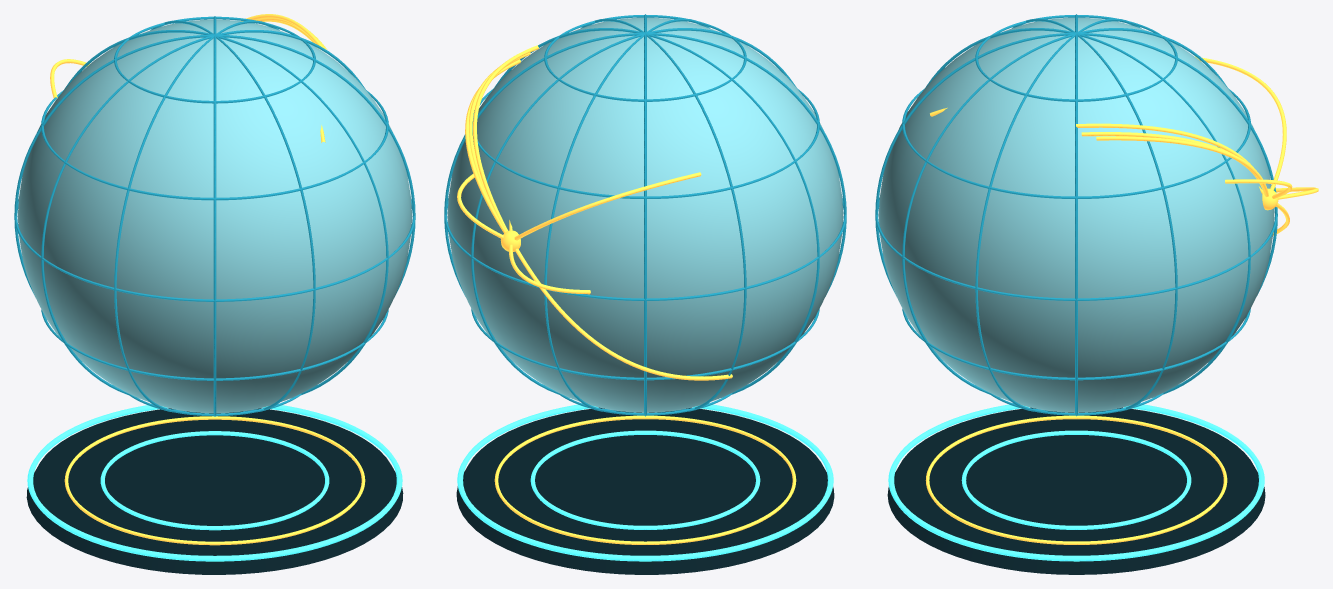
The model's file is alpenglow.glb.
3 renders of one model, left to right at view 1: azimuth 30°, elevation 25°; view 2: azimuth 150°, elevation 25°; view 3: azimuth 270°, elevation 25°, orthographic.
Visible parts, largest first — view 1: alpenglow, globe, base-rings, base-accent, leads; view 2: alpenglow, globe, base-rings, leads, base-accent; view 3: alpenglow, globe, base-rings, leads, base-accent.
Part boxes in pixels (bbox=[...]): alpenglow: bbox=[17, 19, 412, 574]; globe: bbox=[14, 16, 415, 416]; base-rings: bbox=[27, 405, 402, 561]; base-accent: bbox=[64, 416, 365, 545]; leads: bbox=[50, 14, 327, 142]; alpenglow: bbox=[447, 17, 843, 574]; globe: bbox=[444, 14, 846, 416]; base-rings: bbox=[457, 404, 833, 561]; leads: bbox=[457, 45, 732, 380]; base-accent: bbox=[494, 415, 796, 544]; alpenglow: bbox=[878, 17, 1278, 574]; globe: bbox=[875, 14, 1277, 416]; base-rings: bbox=[888, 404, 1264, 561]; leads: bbox=[930, 56, 1318, 235]; base-accent: bbox=[925, 415, 1227, 544].
Size of the model in its own units: 0.2216 by 0.2808 by 0.2441.
